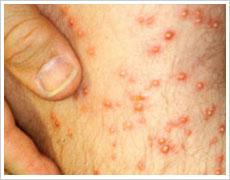Fire-Ant: (146, 10, 224, 61), (100, 68, 152, 135), (152, 118, 199, 166), (169, 67, 210, 100), (207, 107, 226, 142)
